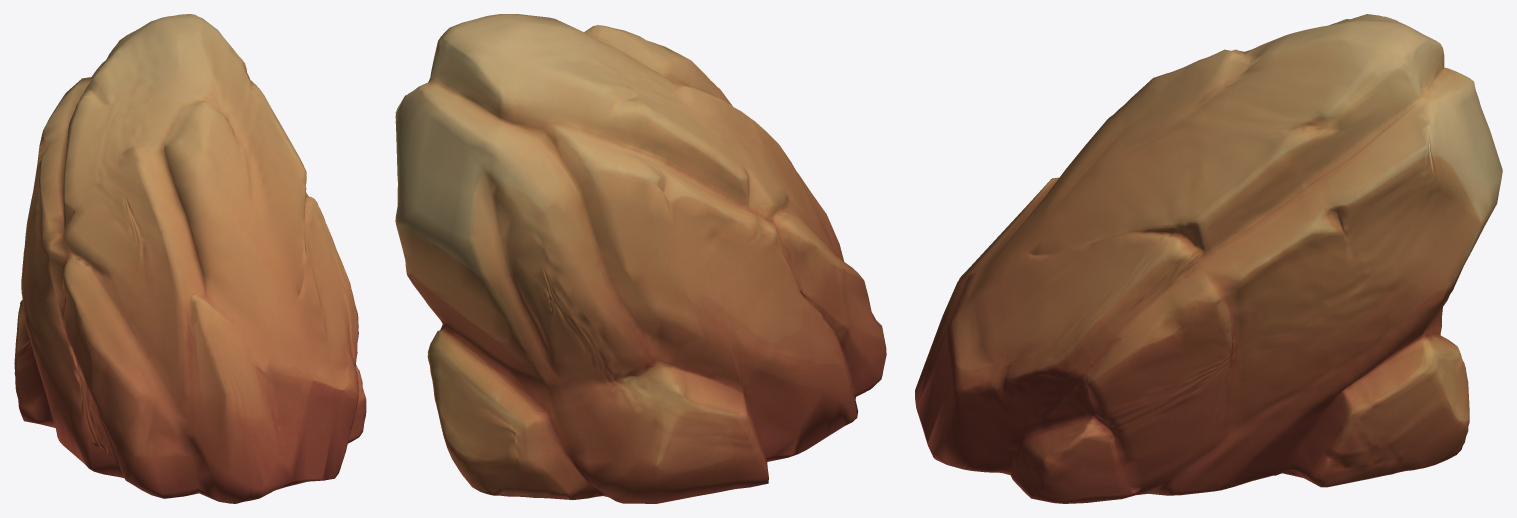
Rendered from Small Rock.fbx.
The picture shows the model from 3 angles, left to right: view 1: azimuth 30°, elevation 25°; view 2: azimuth 150°, elevation 25°; view 3: azimuth 270°, elevation 25°; orthographic projection. The views are drawn at different scales.
Visible parts, largest first — view 1: tripo_node_dcb5390d; view 2: tripo_node_dcb5390d; view 3: tripo_node_dcb5390d.
Part boxes in pixels (left/top/right/bottom): tripo_node_dcb5390d: left=14, top=14, right=366, bottom=503; tripo_node_dcb5390d: left=395, top=14, right=886, bottom=503; tripo_node_dcb5390d: left=915, top=14, right=1502, bottom=503.
Size of the model in its own units: 0.6932 by 0.8163 by 0.9979.
